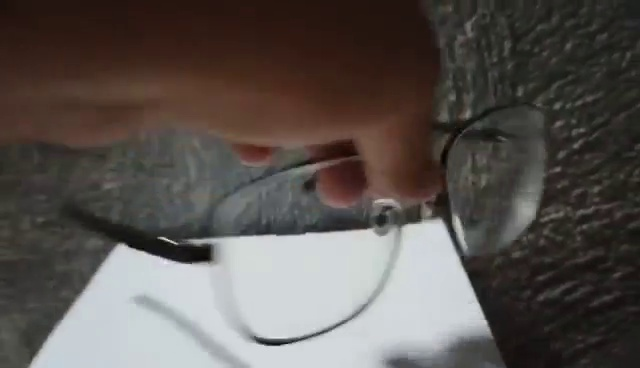glasses: (50, 103, 553, 353)
